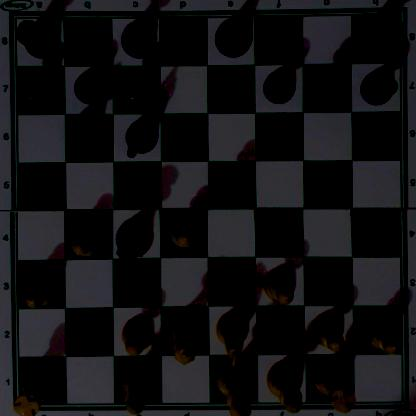black-bishop: (117, 19, 158, 56), (64, 114, 104, 149)
black-king: (214, 15, 254, 58)
black-knight: (123, 116, 156, 155)
black-pawn: (360, 69, 396, 105), (213, 166, 248, 201), (73, 69, 105, 104), (20, 72, 54, 104), (311, 67, 343, 101), (263, 68, 295, 102), (122, 71, 152, 105)
black-queen: (116, 218, 152, 263)
black-rook: (12, 16, 59, 58), (358, 10, 401, 55)
white-bishop: (265, 361, 305, 414), (121, 363, 158, 416)
white-king: (215, 358, 254, 416)
white-knight: (215, 311, 248, 365)
white-pawn: (309, 311, 347, 351), (363, 314, 400, 351), (119, 315, 154, 354), (67, 221, 104, 257), (21, 271, 58, 306), (261, 266, 295, 304), (167, 214, 201, 248)
white-queen: (166, 312, 204, 365)
white-rook: (15, 361, 55, 416), (315, 357, 353, 413)
